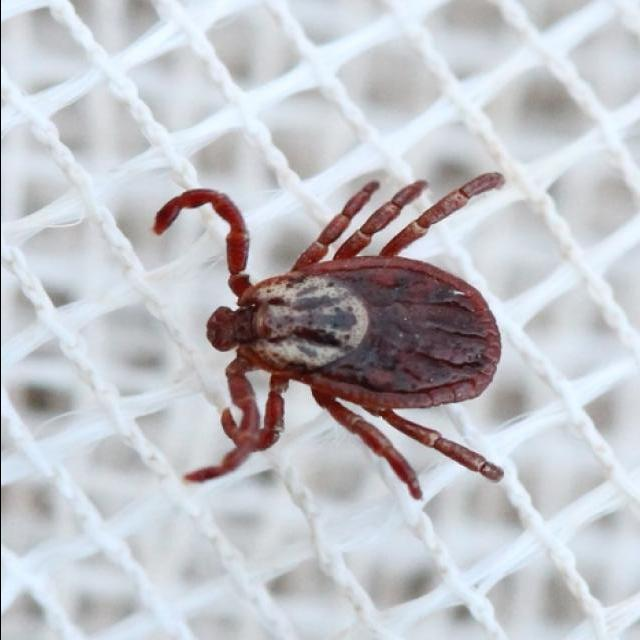Dermacentor Reticulatus-F: (149, 173, 503, 504)
